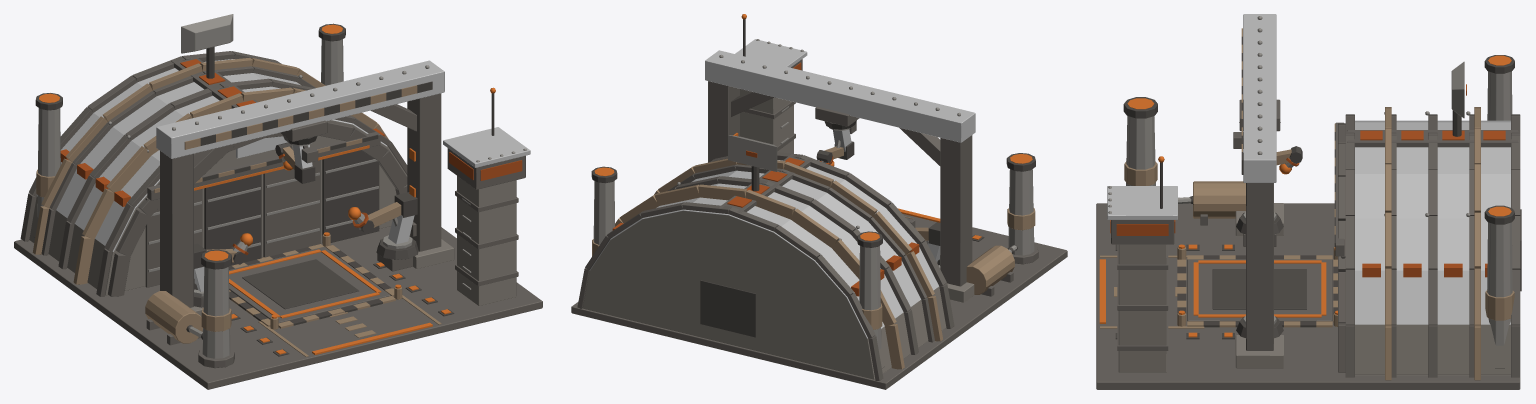
Rendered from crucible_adv_aircraft_plant.glb.
3 views of the same model, side by side, from view 1: azimuth 30°, elevation 25°; view 2: azimuth 150°, elevation 25°; view 3: azimuth 270°, elevation 25° (orthographic). The views are drawn at different scales.
Parts seen in each view (by area): view 1: Body; view 2: Body; view 3: Body.
Part boxes in pixels (x1=…): Body: x1=14, y1=14, x2=542, y2=389; Body: x1=571, y1=14, x2=1067, y2=389; Body: x1=1096, y1=14, x2=1521, y2=389.
Size of the model in its own units: 22.8 by 13.38 by 22.87.
